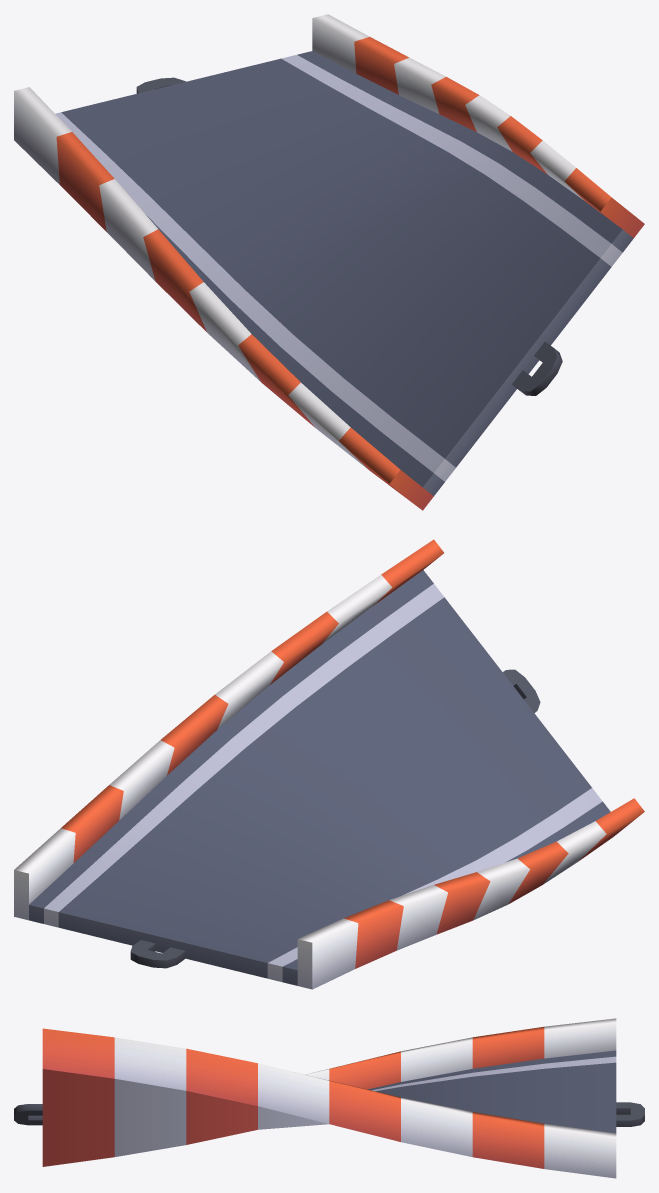
File: track-road-wide-straight-skew-right.glb
The picture shows the model from 3 angles, top to bottom: view 1: azimuth 30°, elevation 25°; view 2: azimuth 150°, elevation 25°; view 3: azimuth 270°, elevation 25°; orthographic projection. The views are drawn at different scales.
Parts seen in each view (by area): view 1: track-road-wide-straight-skew-right; view 2: track-road-wide-straight-skew-right; view 3: track-road-wide-straight-skew-right.
Boxes of the visible parts, left/top/right/bottom form: track-road-wide-straight-skew-right: left=14, top=14, right=644, bottom=510; track-road-wide-straight-skew-right: left=14, top=539, right=644, bottom=989; track-road-wide-straight-skew-right: left=14, top=1018, right=644, bottom=1178.
Bounding box in the file's own units: 2.04 × 1.63 × 4.4.
Materials: 1 (1 with a texture image).
